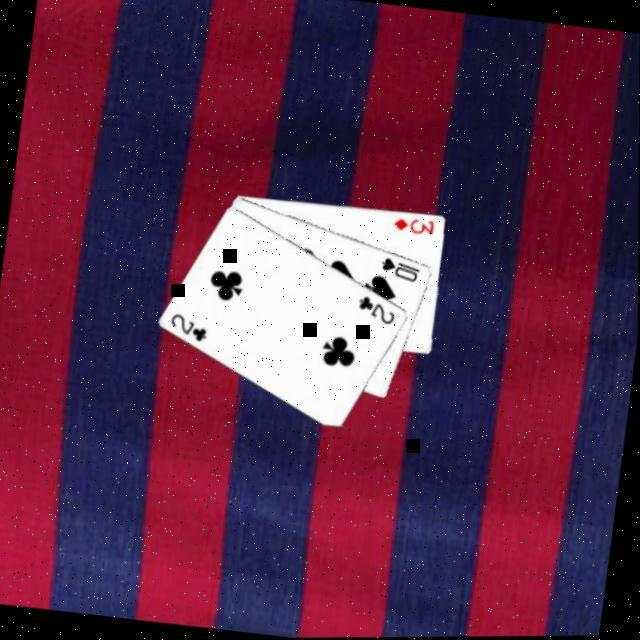10S: (375, 254, 423, 286)
2C: (353, 292, 400, 329), (164, 310, 211, 346)
3D: (389, 213, 437, 238)
